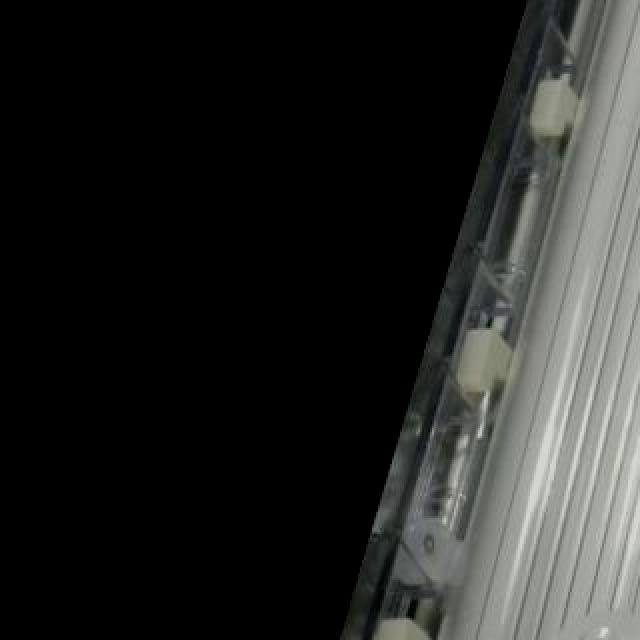fluorescent tube: (344, 0, 640, 640)
